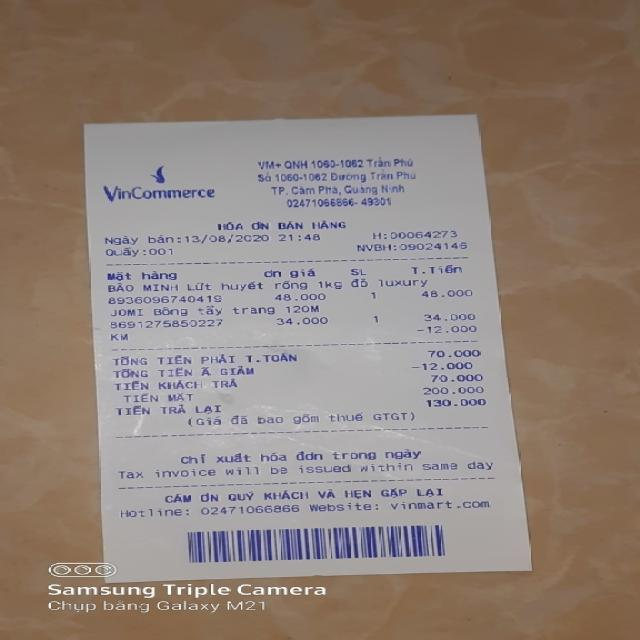Date: (185, 233, 274, 244)
Store_Name: (91, 184, 223, 204)
amount_number: (425, 347, 484, 359)
label_total: (108, 353, 304, 365)
